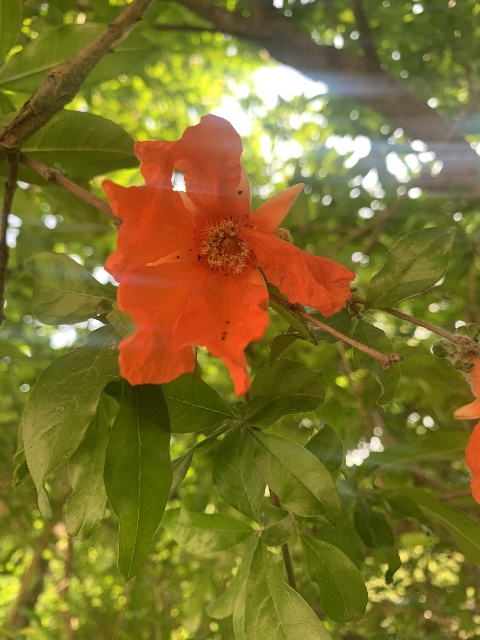flower: (101, 113, 356, 397)
